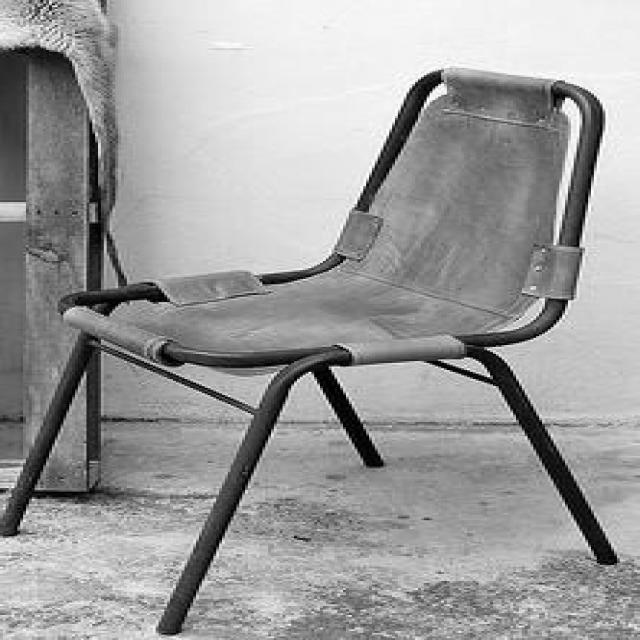chair: (1, 54, 616, 630)
